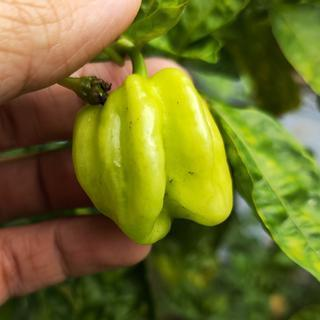Grade-B: (65, 66, 241, 248)
